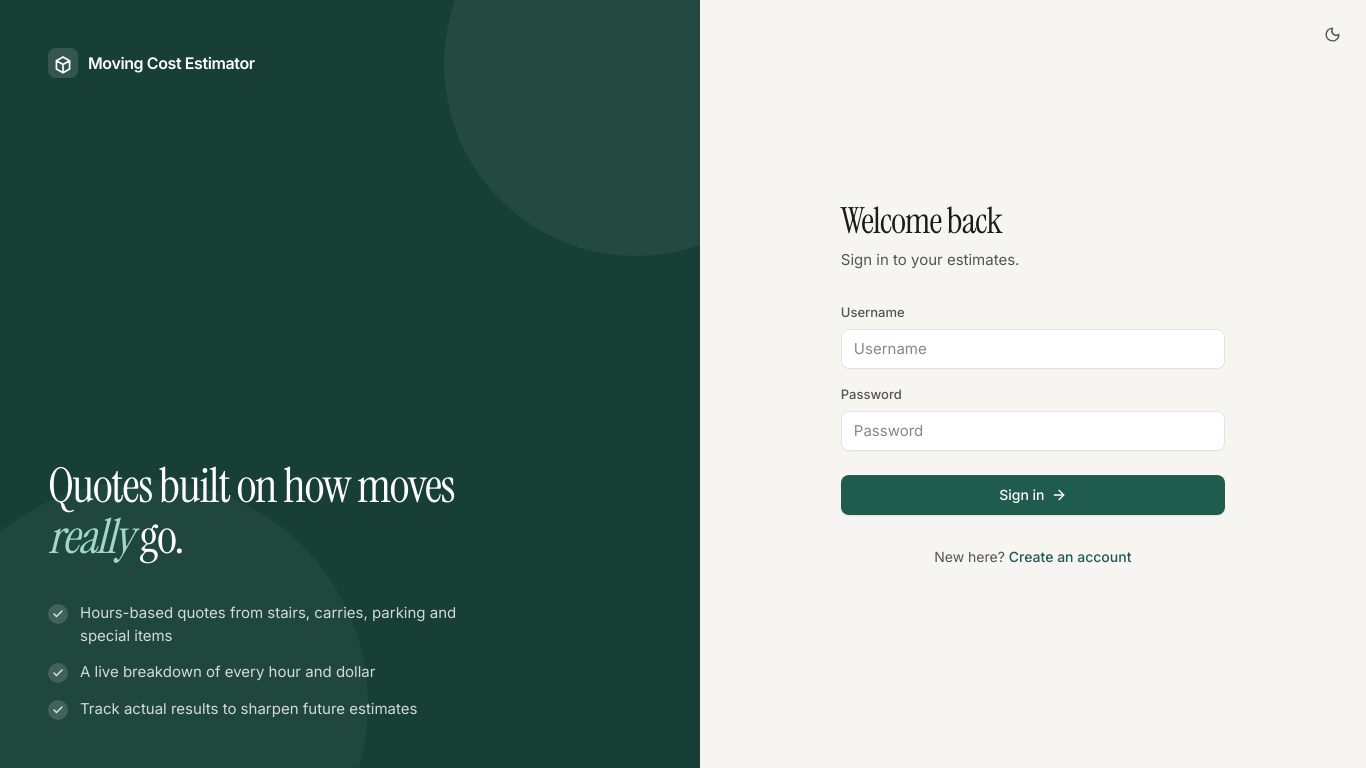
Scenario: AuthForm › shows an inline error and does not store tokens when the request fails
Type "ben" into the field with placeholder "Username" at (1033, 349), box x1=841 y1=329 x2=1225 y2=369
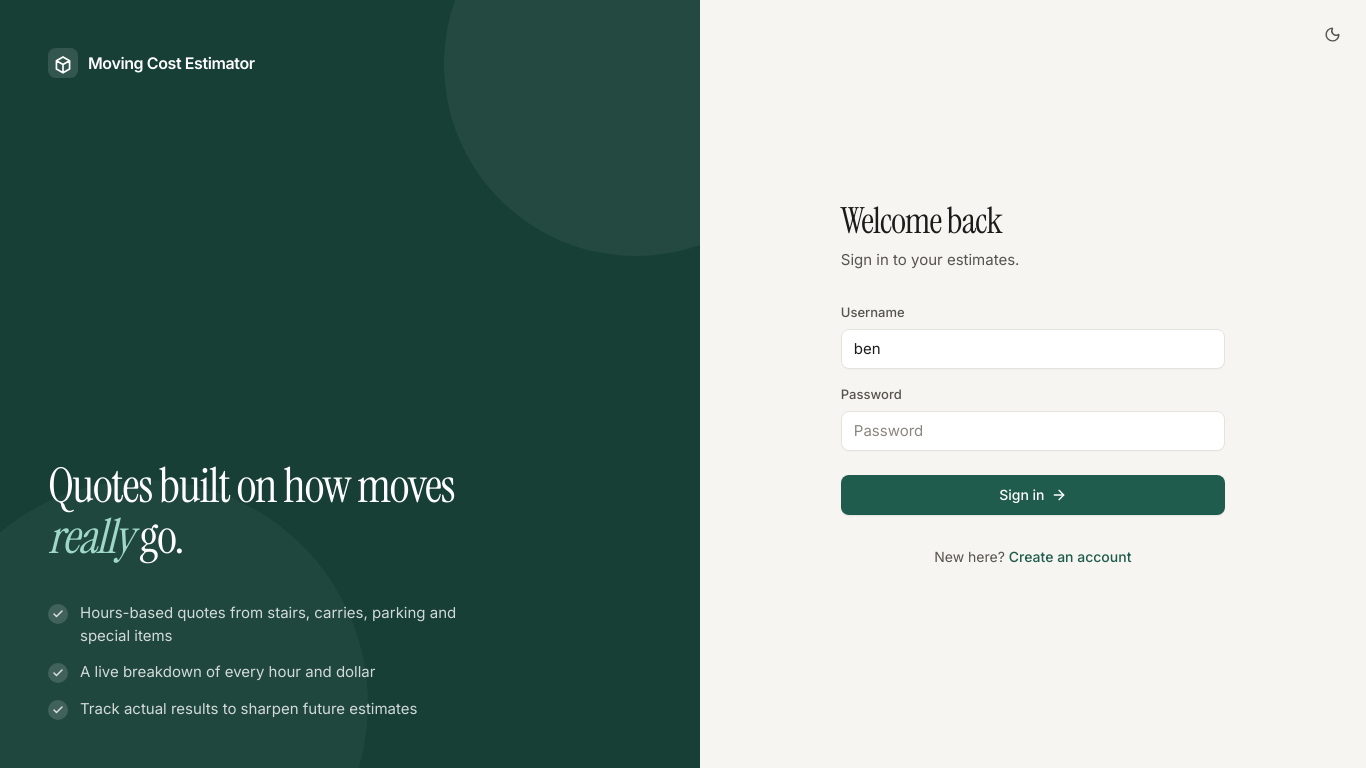
Type "wrong" into the password field with placeholder "Password" at (1033, 431), box x1=841 y1=411 x2=1225 y2=451
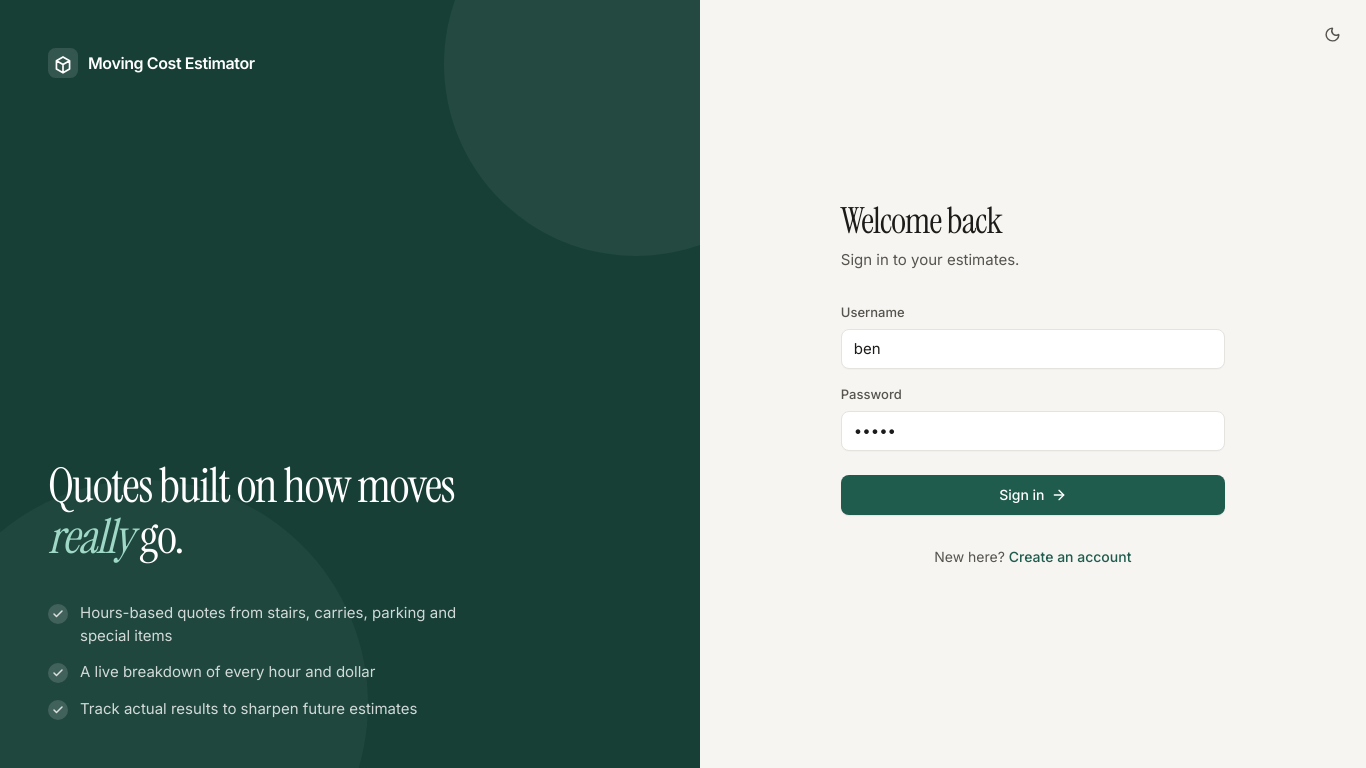
Click the button "Sign in" at (1033, 495), box x1=841 y1=475 x2=1225 y2=515
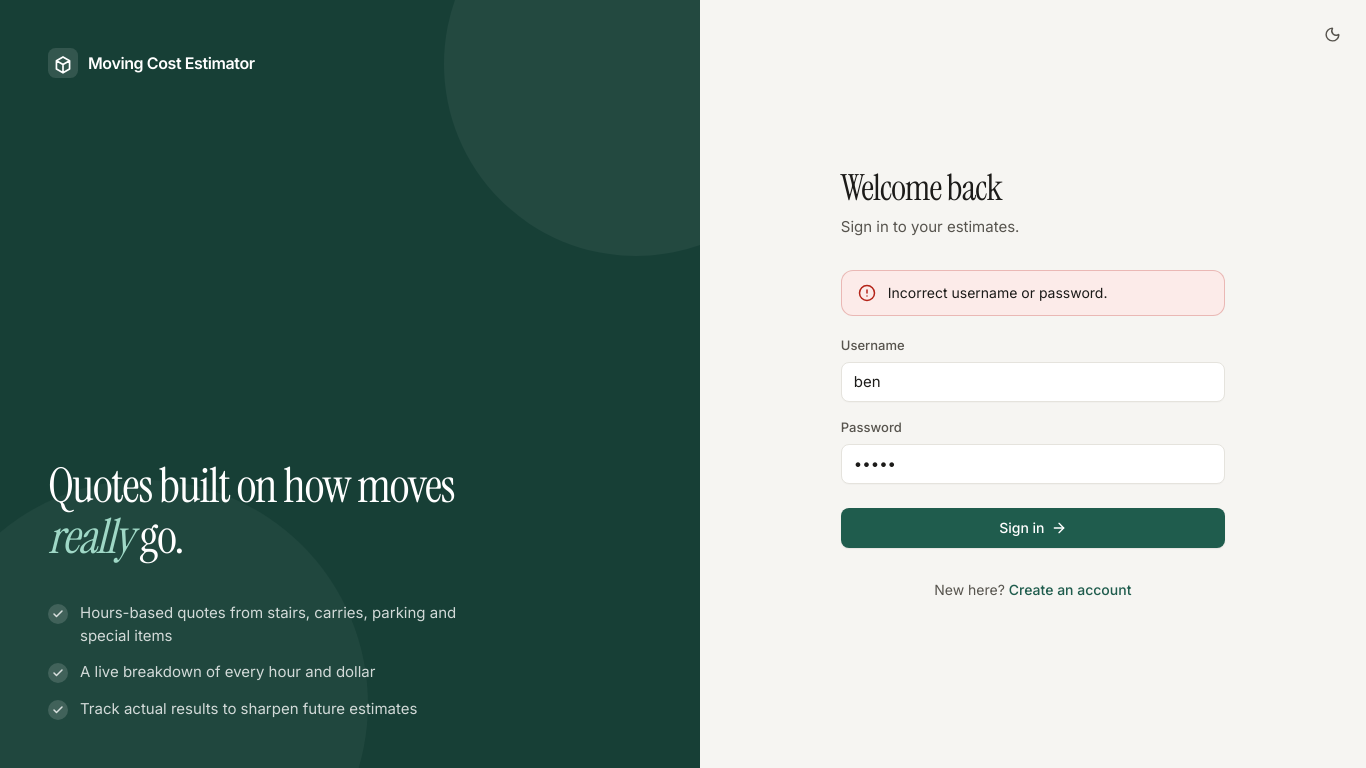
Expected: the message reads "Incorrect username or password.", x1=888 y1=284 x2=1107 y2=301
